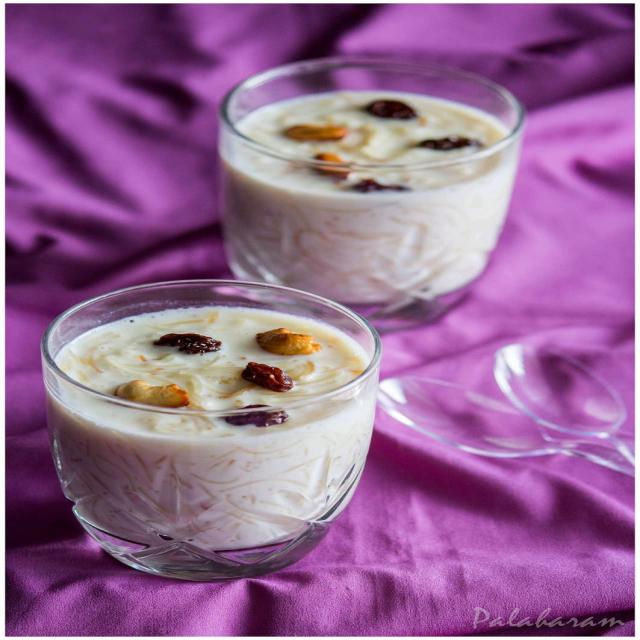shavige payasa: (33, 280, 392, 577), (205, 54, 540, 330)
